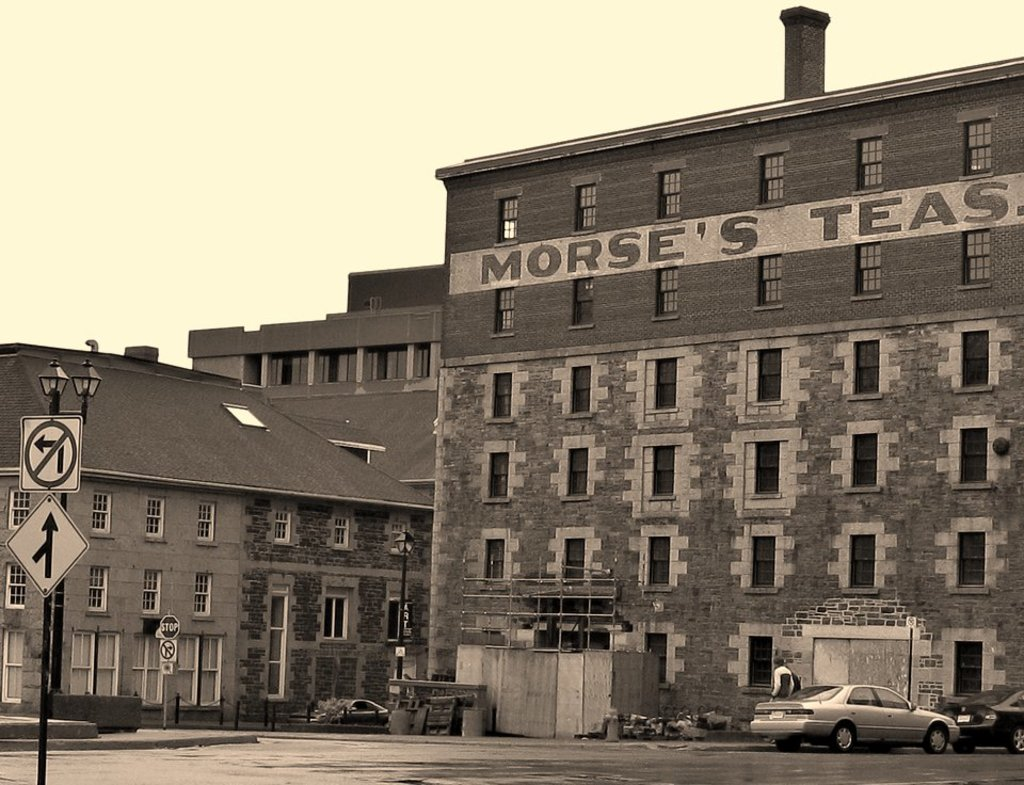Car: (746, 684, 957, 754), (937, 684, 1022, 756), (284, 699, 392, 726)
